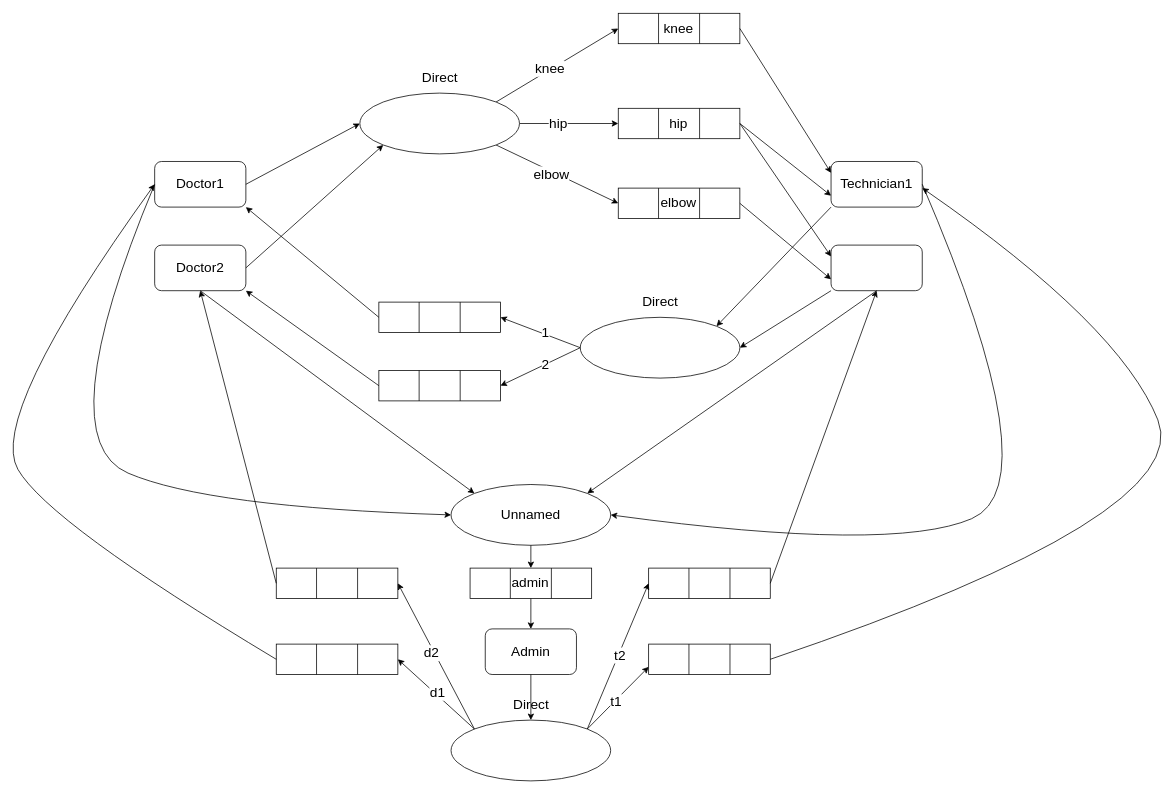
Some shapes in this 1175 by 794 pixel diagram are drawn without their labels. The shapes that lost their labels are listed below. From the top down, each one's box as (x1, y1, x2, y2) in pixels, then its label:
(359, 92, 519, 154): Exchange1
(830, 244, 922, 291): Technician2
(580, 317, 740, 378): Exchange2
(450, 719, 611, 781): Exchange3
